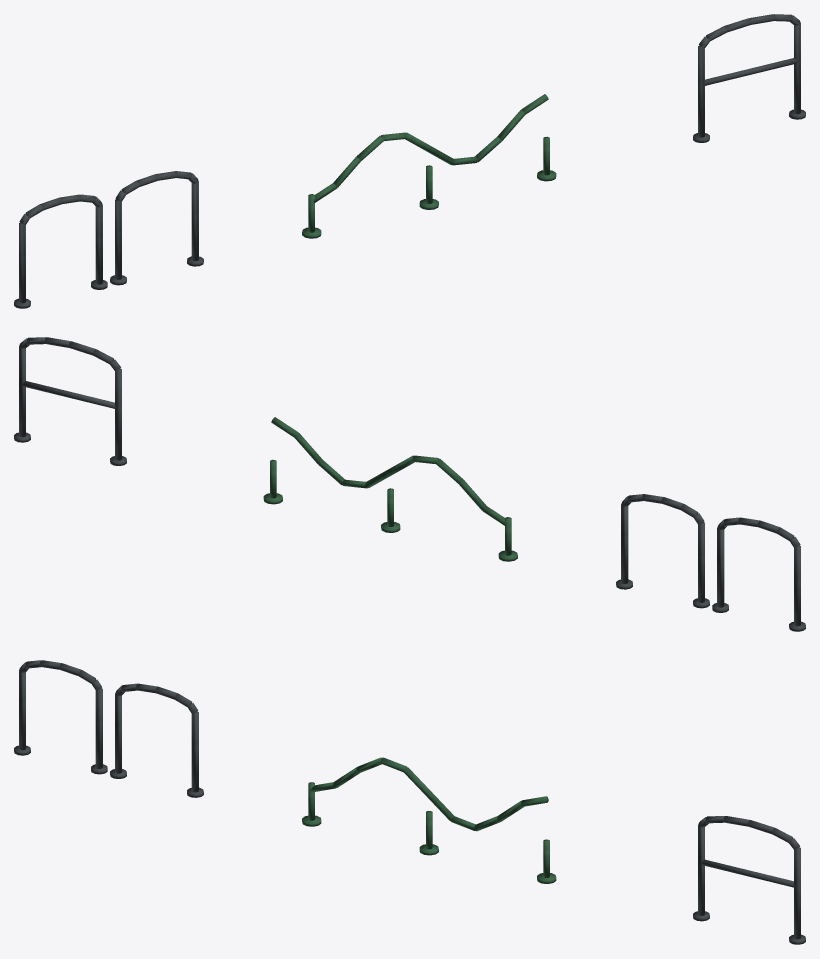
Rendered from bike_rack.glb.
The picture shows the model from 3 angles, top to bottom: view 1: azimuth 30°, elevation 25°; view 2: azimuth 150°, elevation 25°; view 3: azimuth 330°, elevation 25°; orthographic projection.
Visible parts, largest first — view 1: bike_rack_v1, bike_rack_v2, bike_rack_v3; view 2: bike_rack_v1, bike_rack_v2, bike_rack_v3; view 3: bike_rack_v1, bike_rack_v2, bike_rack_v3.
Part boxes in pixels (x1=…): bike_rack_v1: x1=14, y1=171, x2=203, y2=308; bike_rack_v2: x1=302, y1=94, x2=556, y2=238; bike_rack_v3: x1=693, y1=14, x2=805, y2=142; bike_rack_v1: x1=616, y1=494, x2=805, y2=631; bike_rack_v2: x1=263, y1=417, x2=517, y2=561; bike_rack_v3: x1=14, y1=337, x2=126, y2=465; bike_rack_v1: x1=14, y1=660, x2=203, y2=797; bike_rack_v2: x1=302, y1=757, x2=556, y2=883; bike_rack_v3: x1=693, y1=816, x2=805, y2=944.
Bounding box in the file's own units: 7.39 × 0.9799 × 0.16.
2 materials, 2 textured.
